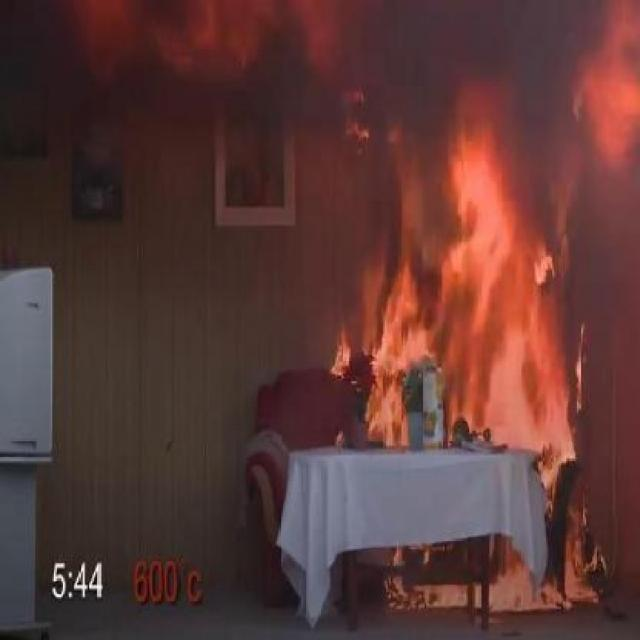fire: (314, 270, 608, 612)
smoke: (396, 19, 622, 258), (48, 0, 354, 114)
